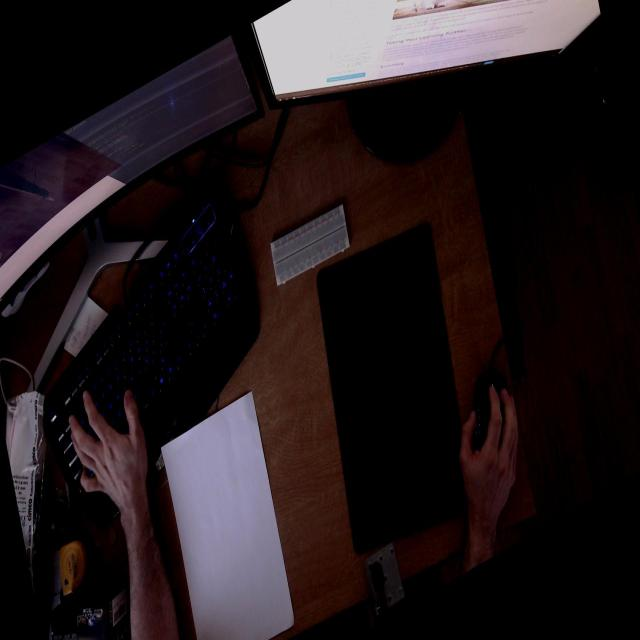keyboard-with-hands: (36, 175, 274, 521)
